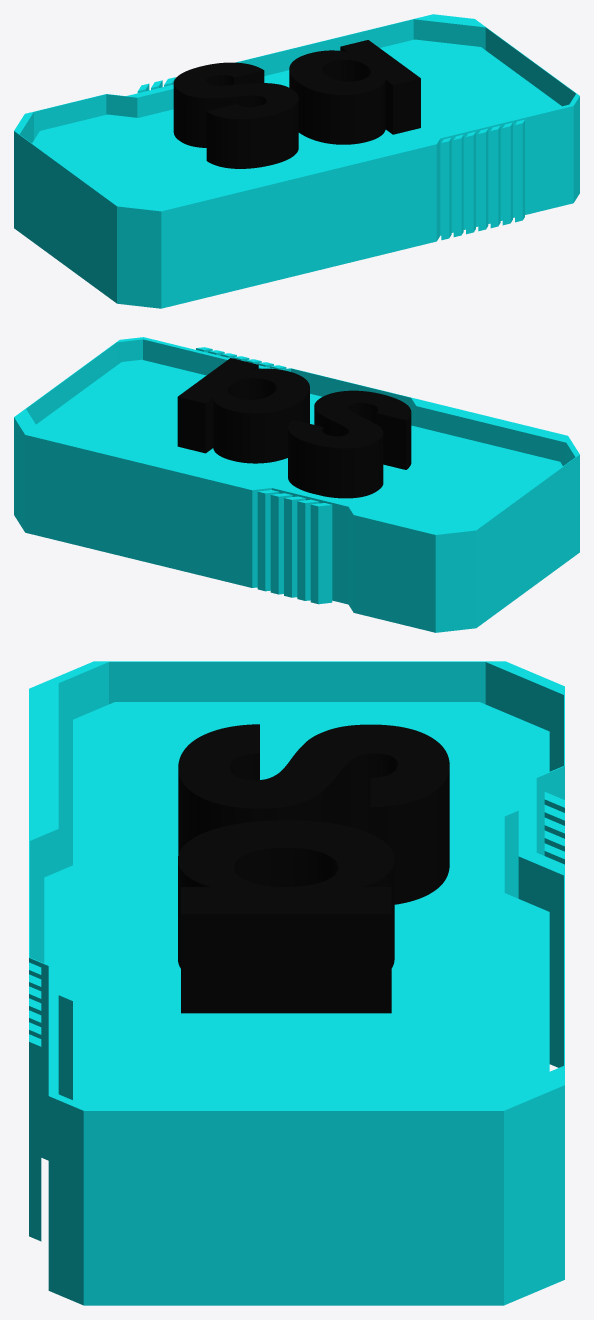
The model's file is 8.HurufSa.glb.
3 renders of one model, top to bottom at view 1: azimuth 30°, elevation 25°; view 2: azimuth 150°, elevation 25°; view 3: azimuth 270°, elevation 25°, orthographic. The views are drawn at different scales.
Visible parts, largest first — view 1: Curve.136, Curve.130, Curve.144, Curve.145, Curve.137, Curve.141, Curve.138, Curve.142, Curve.140, Curve.139, Curve.143; view 2: Curve.136, Curve.130, Curve.144, Curve.145, Curve.135, Curve.132, Curve.133, Curve.134, Curve.131; view 3: Curve.136, Curve.130, Curve.145, Curve.144, Curve.143.
Boxes of the visible parts, left/top/right/bottom form: Curve.136: left=14, top=14, right=579, bottom=308; Curve.130: left=32, top=39, right=561, bottom=207; Curve.144: left=173, top=62, right=298, bottom=168; Curve.145: left=289, top=40, right=420, bottom=144; Curve.137: left=441, top=137, right=451, bottom=240; Curve.141: left=490, top=125, right=500, bottom=228; Curve.138: left=453, top=134, right=463, bottom=237; Curve.142: left=502, top=122, right=512, bottom=225; Curve.140: left=478, top=128, right=488, bottom=231; Curve.139: left=466, top=131, right=475, bottom=234; Curve.143: left=515, top=119, right=524, bottom=222; Curve.136: left=14, top=337, right=579, bottom=632; Curve.130: left=36, top=359, right=562, bottom=532; Curve.144: left=288, top=390, right=411, bottom=498; Curve.145: left=177, top=358, right=309, bottom=463; Curve.135: left=310, top=503, right=332, bottom=604; Curve.132: left=270, top=493, right=292, bottom=594; Curve.133: left=284, top=496, right=305, bottom=597; Curve.134: left=297, top=499, right=319, bottom=600; Curve.131: left=257, top=490, right=279, bottom=591; Curve.136: left=29, top=661, right=564, bottom=1305; Curve.130: left=44, top=702, right=549, bottom=1110; Curve.145: left=178, top=820, right=394, bottom=1013; Curve.144: left=178, top=724, right=449, bottom=904; Curve.143: left=29, top=1034, right=41, bottom=1241.
Bounding box in the file's own units: 0.2966 × 0.08 × 0.1496.
